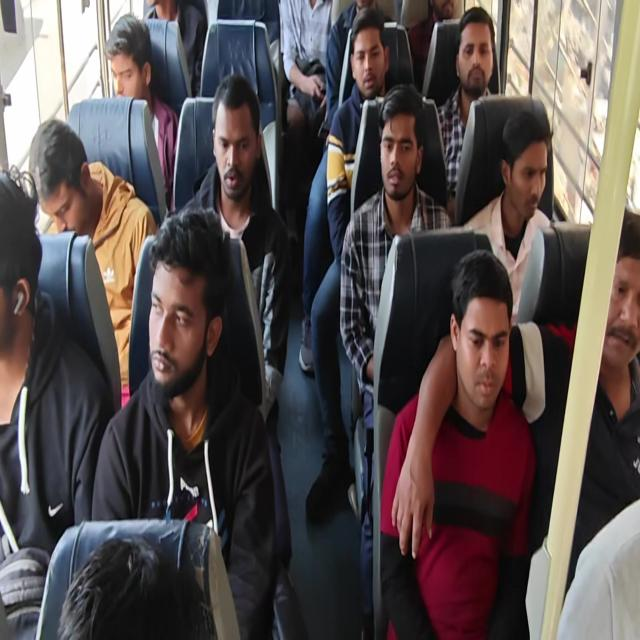person: (1, 1, 638, 638), (408, 207, 640, 632), (90, 205, 277, 638), (338, 81, 452, 634), (378, 248, 536, 638), (0, 166, 114, 638), (304, 6, 395, 520), (179, 72, 291, 427), (28, 117, 157, 407), (557, 207, 639, 605), (462, 110, 551, 328), (57, 535, 216, 639), (104, 13, 178, 209), (435, 6, 496, 218), (324, 0, 396, 134), (279, 0, 333, 137), (142, 0, 206, 96), (406, 0, 456, 92)
